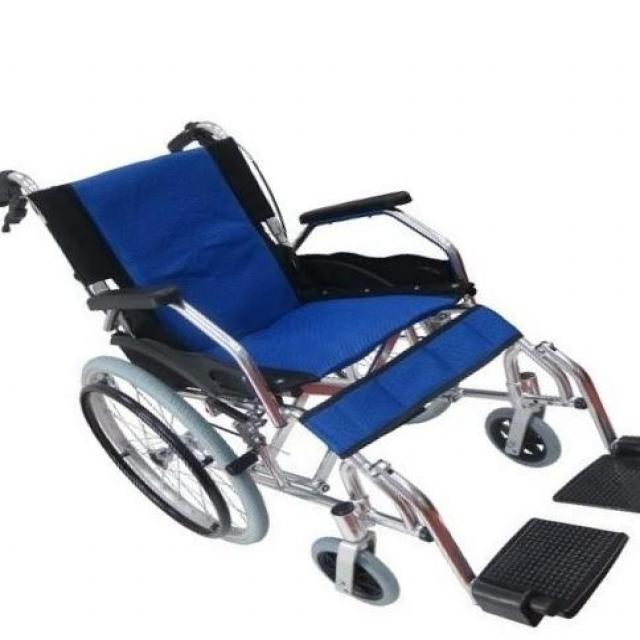wheelchair: (2, 108, 638, 629)
